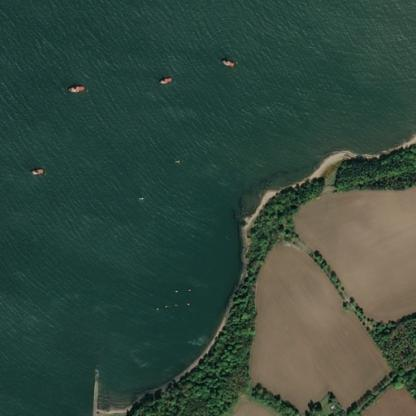ship: (66, 83, 84, 92), (157, 76, 174, 84), (220, 57, 233, 66), (31, 166, 42, 176), (182, 298, 192, 306), (182, 287, 192, 294), (172, 287, 180, 294), (170, 302, 180, 307), (136, 195, 145, 200), (161, 302, 168, 307), (154, 304, 159, 311), (172, 158, 180, 162)
